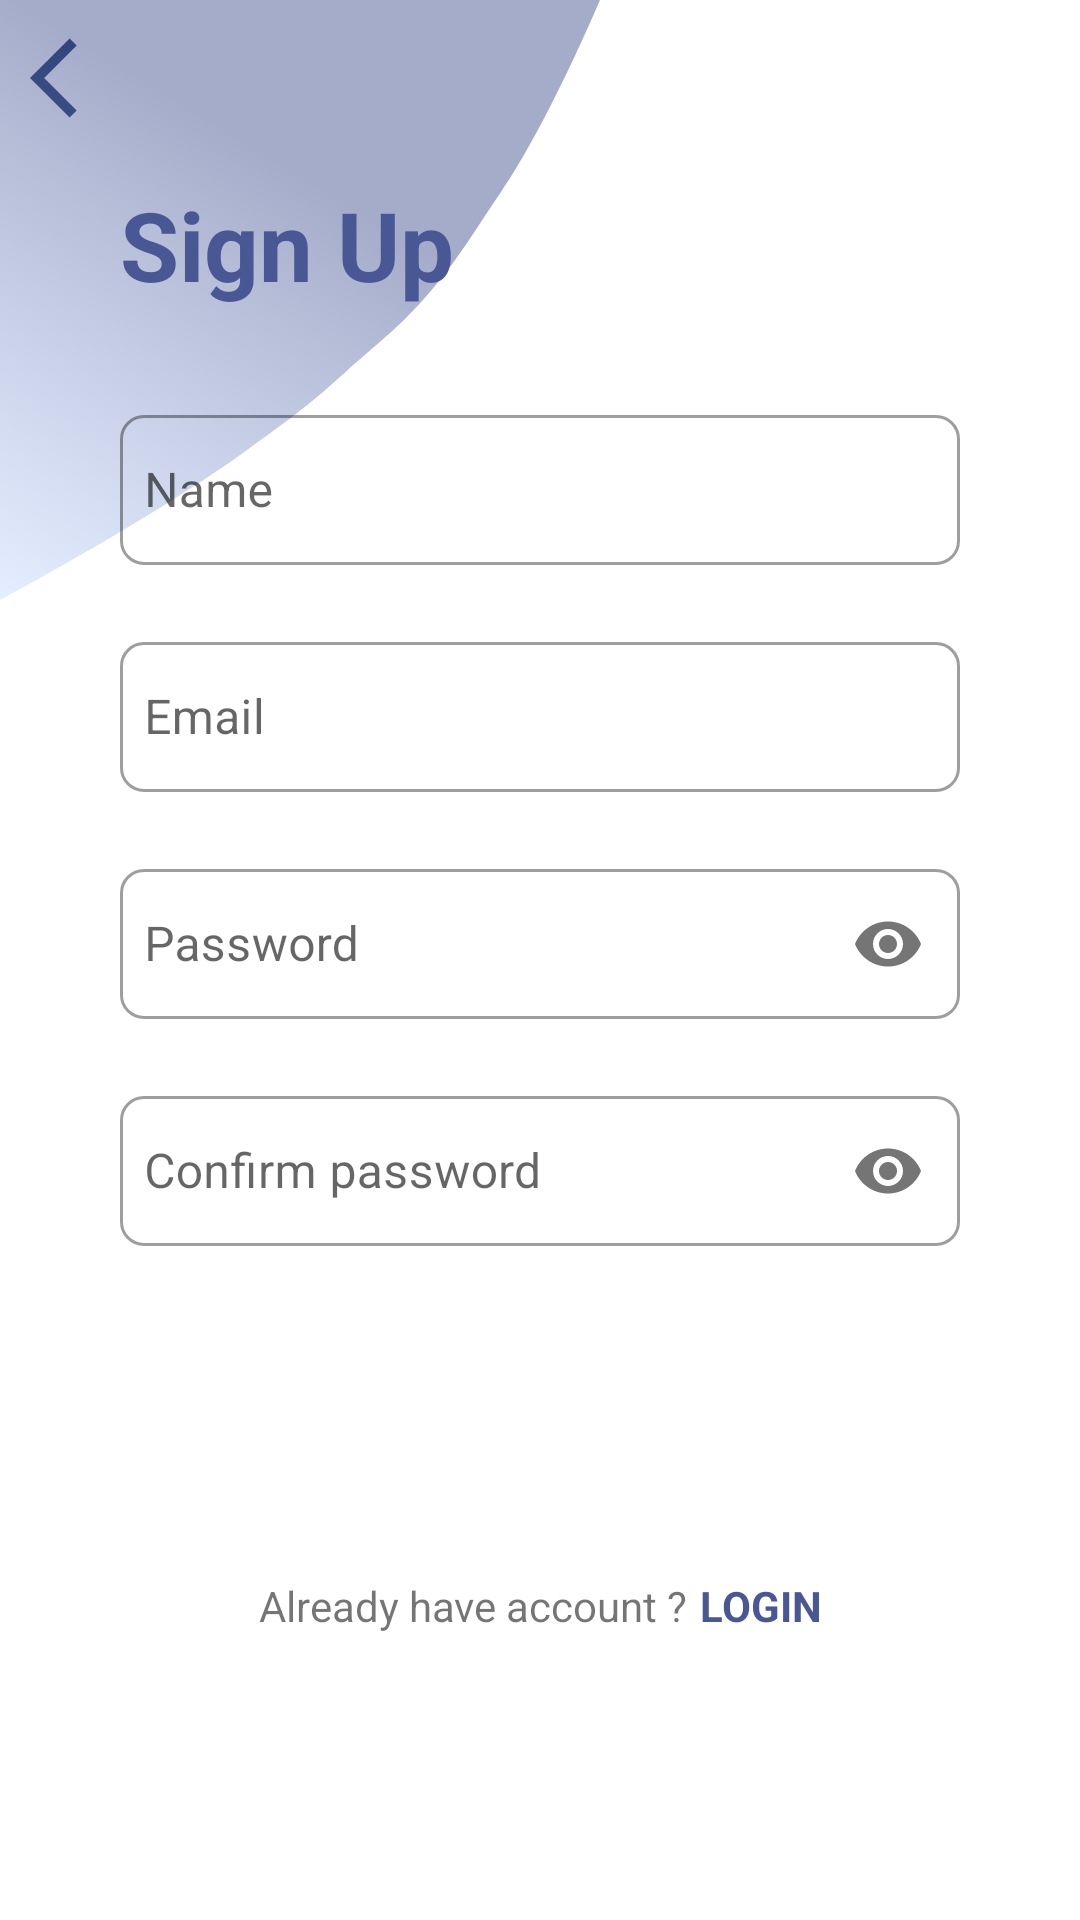

Locate icon controls on the screen. Image size 1080w x 1920h, boxes as rect(x1, y1, x2, y2).
arrow back: rect(30, 38, 77, 117)
